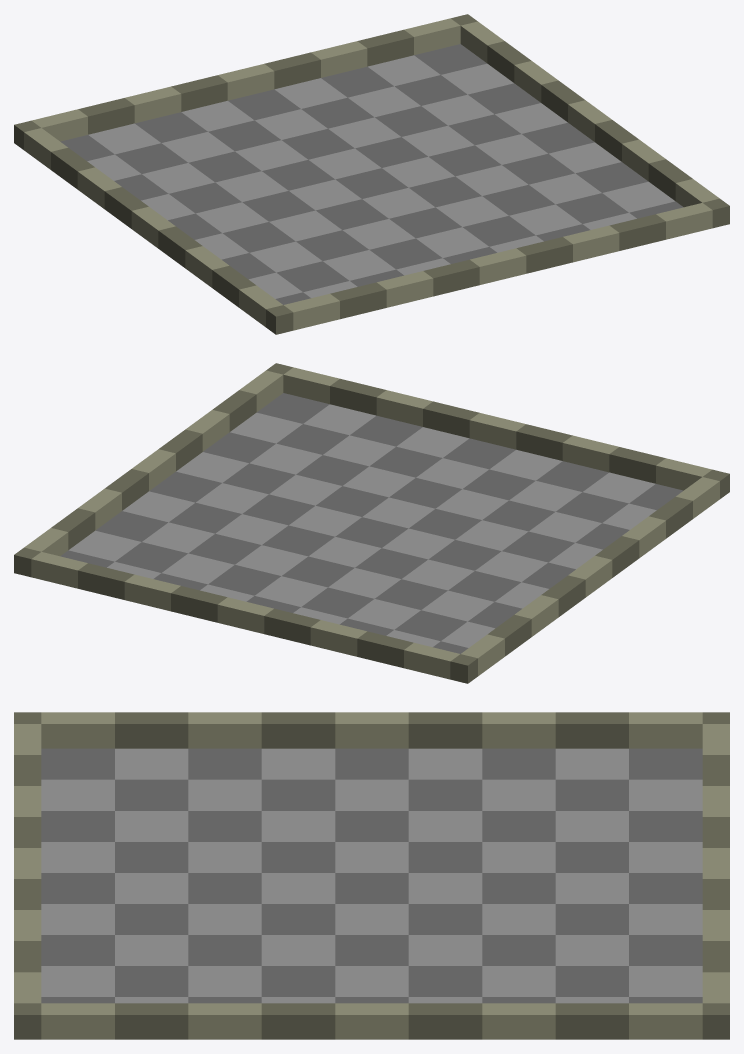
File: stage.glb
3 views of the same model, one above another, from view 1: azimuth 30°, elevation 25°; view 2: azimuth 150°, elevation 25°; view 3: azimuth 270°, elevation 25° (orthographic). The views are drawn at different scales.
Parts seen in each view (by area): view 1: ground, wall+z, wall-z, wall-x, wall+x; view 2: ground, wall-z, wall+z, wall-x, wall+x; view 3: ground, wall-x, wall+x, wall+z, wall-z.
Part boxes in pixels (x1=…): ground: x1=60, y1=44, x2=683, y2=304; wall+z: x1=266, y1=198, x2=729, y2=334; wall-z: x1=14, y1=14, x2=477, y2=149; wall-x: x1=24, y1=128, x2=282, y2=327; wall+x: x1=460, y1=21, x2=719, y2=207; ground: x1=60, y1=393, x2=683, y2=653; wall-z: x1=14, y1=547, x2=477, y2=683; wall+z: x1=266, y1=363, x2=729, y2=498; wall-x: x1=461, y1=477, x2=719, y2=676; wall+x: x1=24, y1=370, x2=283, y2=556; ground: x1=41, y1=748, x2=702, y2=1003; wall-x: x1=41, y1=712, x2=702, y2=748; wall+x: x1=41, y1=1003, x2=702, y2=1039; wall+z: x1=14, y1=712, x2=41, y2=1039; wall-z: x1=702, y1=712, x2=729, y2=1039.
Size of what is drawn, in the model's own units: 3.89 by 0.1494 by 3.89.
